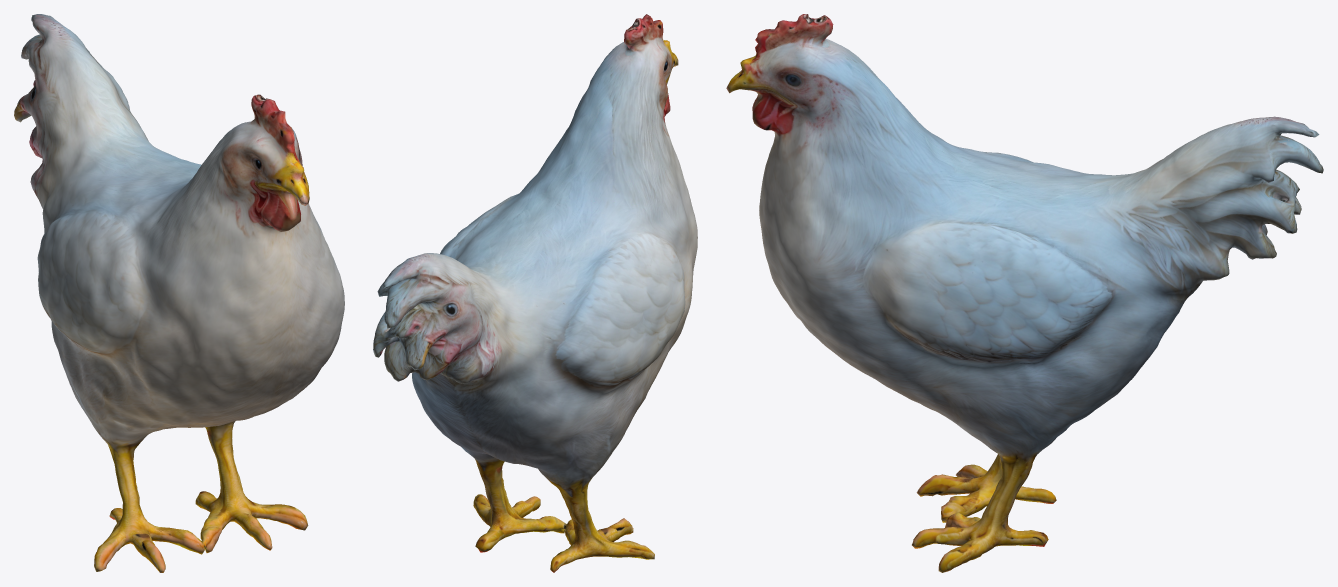
The model's file is a_beautiful_calm_chicken_0714052117_refine.glb.
The picture shows the model from 3 angles, left to right: view 1: azimuth 30°, elevation 25°; view 2: azimuth 150°, elevation 25°; view 3: azimuth 270°, elevation 25°; orthographic projection. The views are drawn at different scales.
Bounding box in the file's own units: 0.5448 × 1.13 × 1.2.
Materials: 1 (1 with a texture image).
